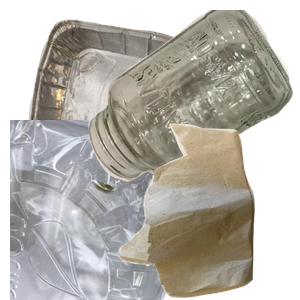glass: (86, 10, 300, 184)
metal: (23, 17, 236, 197)
plastic: (10, 120, 197, 300)
trash: (114, 121, 300, 300)
